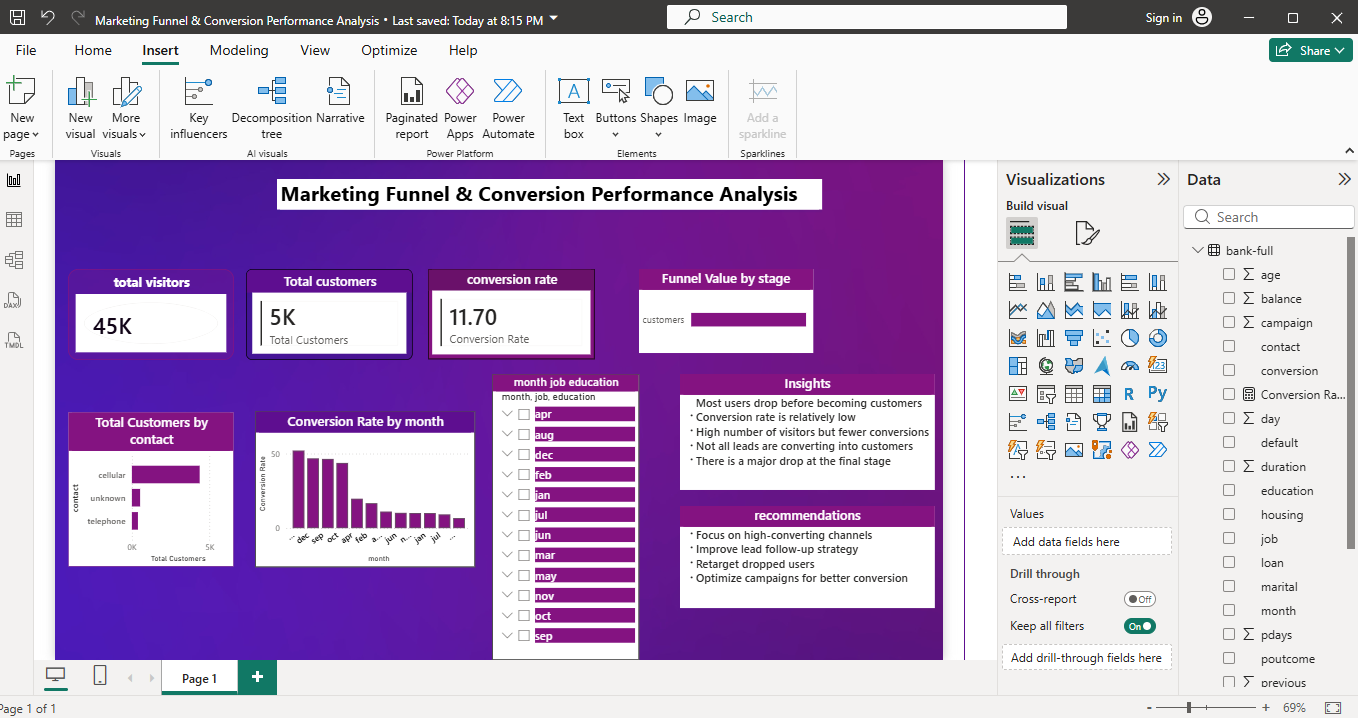

The page's visual inventory and layout, read from the dashboard file:
{"tool":"powerbi","page":{"name":"Page 1","canvas":[1280,720],"ordinal":0},"visuals":[{"type":"cardVisual","title":"total  visitors","fields":{"Data":["bank-full.Total Visitors"]},"box":[18.7,157,239,131],"z":0},{"type":"cardVisual","title":"Total customers","fields":{"Data":["bank-full.Total Customers"]},"box":[275,157,240.5,131],"z":1000},{"type":"cardVisual","title":"conversion rate","fields":{"Data":["bank-full.Conversion Rate"]},"box":[537.1,157,240.5,129.6],"z":2000},{"type":"funnel","fields":{"Category":["Funnel stage.stage"],"Y":["Funnel stage.Funnel Value"]},"box":[841,157,250.6,121],"z":3000},{"type":"barChart","fields":{"Category":["bank-full.contact"],"Y":["bank-full.Total Customers"]},"box":[18.7,362.9,239,223.2],"z":4000},{"type":"clusteredColumnChart","fields":{"Category":["bank-full.month"],"Y":["bank-full.Conversion Rate"]},"box":[288,361.4,316.8,224.6],"z":5000},{"type":"slicer","title":"month job education","fields":{"Values":["bank-full.month","bank-full.job","bank-full.education"]},"box":[629.3,308.2,211.7,411.8],"z":6000},{"type":"textbox","title":"Insights","box":[900,308.2,367.2,167],"z":6001},{"type":"textbox","title":"recommendations","box":[900,498.2,367.2,146.9],"z":6002},{"type":"textbox","title":"Marketing Funnel & Conversion Performance Analysis","box":[319.7,27.4,784.8,47.5],"z":6003}]}

Visuals, with their boxes on the page's 1280x720 design canvas (x1, y1, x2, y2). These are canvas units, not pixel positions in the 1358x718 screenshot, which may show the page scaled, cropped or inside an application window:
"total  visitors" cardVisual: <region>19, 157, 258, 288</region>
"Total customers" cardVisual: <region>275, 157, 516, 288</region>
"conversion rate" cardVisual: <region>537, 157, 778, 287</region>
funnel - Funnel stage.stage x Funnel stage.Funnel Value: <region>841, 157, 1092, 278</region>
barChart - bank-full.contact x bank-full.Total Customers: <region>19, 363, 258, 586</region>
clusteredColumnChart - bank-full.month x bank-full.Conversion Rate: <region>288, 361, 605, 586</region>
"month job education" slicer: <region>629, 308, 841, 720</region>
"Insights" textbox: <region>900, 308, 1267, 475</region>
"recommendations" textbox: <region>900, 498, 1267, 645</region>
"Marketing Funnel & Conversion Performance Analysis" textbox: <region>320, 27, 1104, 75</region>
